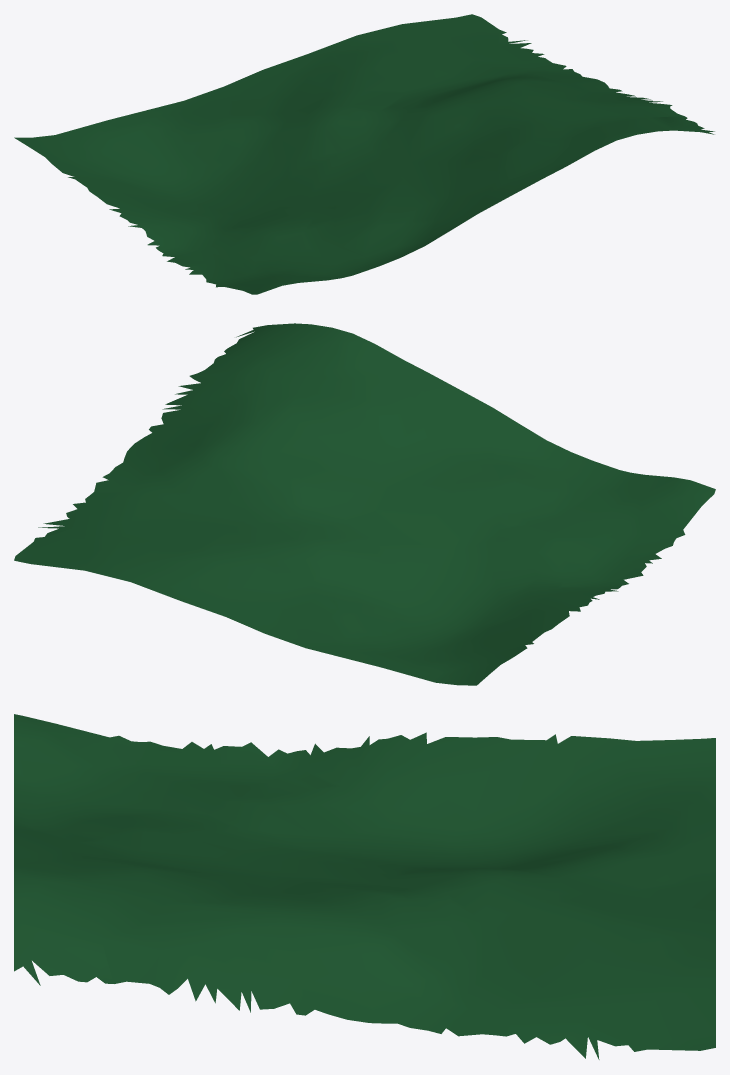
File: payo_land_x0_ym4_lod2.glb
3 views of the same model, one above another, from view 1: azimuth 30°, elevation 25°; view 2: azimuth 150°, elevation 25°; view 3: azimuth 270°, elevation 25° (orthographic). The views are drawn at different scales.
Parts seen in each view (by area): view 1: payo_land_x0_ym4; view 2: payo_land_x0_ym4; view 3: payo_land_x0_ym4.
Part boxes in pixels (x1,y1,x2,y2): payo_land_x0_ym4: (14,14,714,294); payo_land_x0_ym4: (14,323,715,685); payo_land_x0_ym4: (14,714,715,1059).
Bounding box in the file's own units: 268 × 58.73 × 231.
